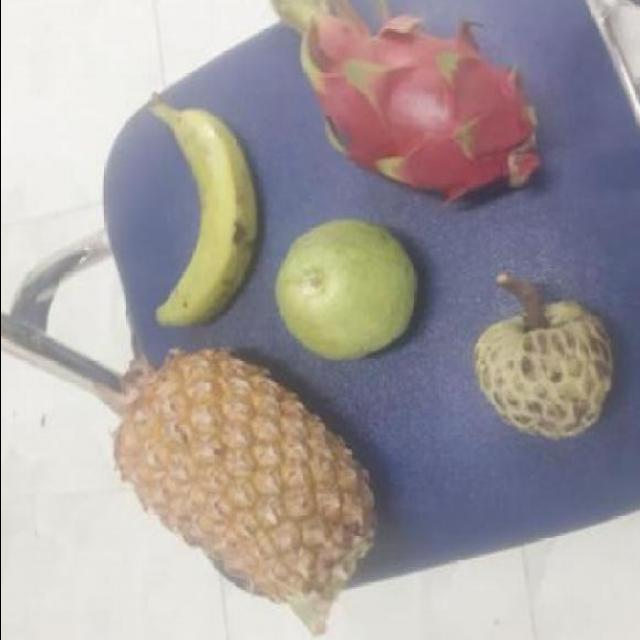banana: (109, 98, 264, 344)
dragon fruit: (316, 12, 540, 212)
guava: (274, 218, 416, 368)
pineapple: (125, 359, 374, 611)
sugar apple: (473, 288, 611, 448)
